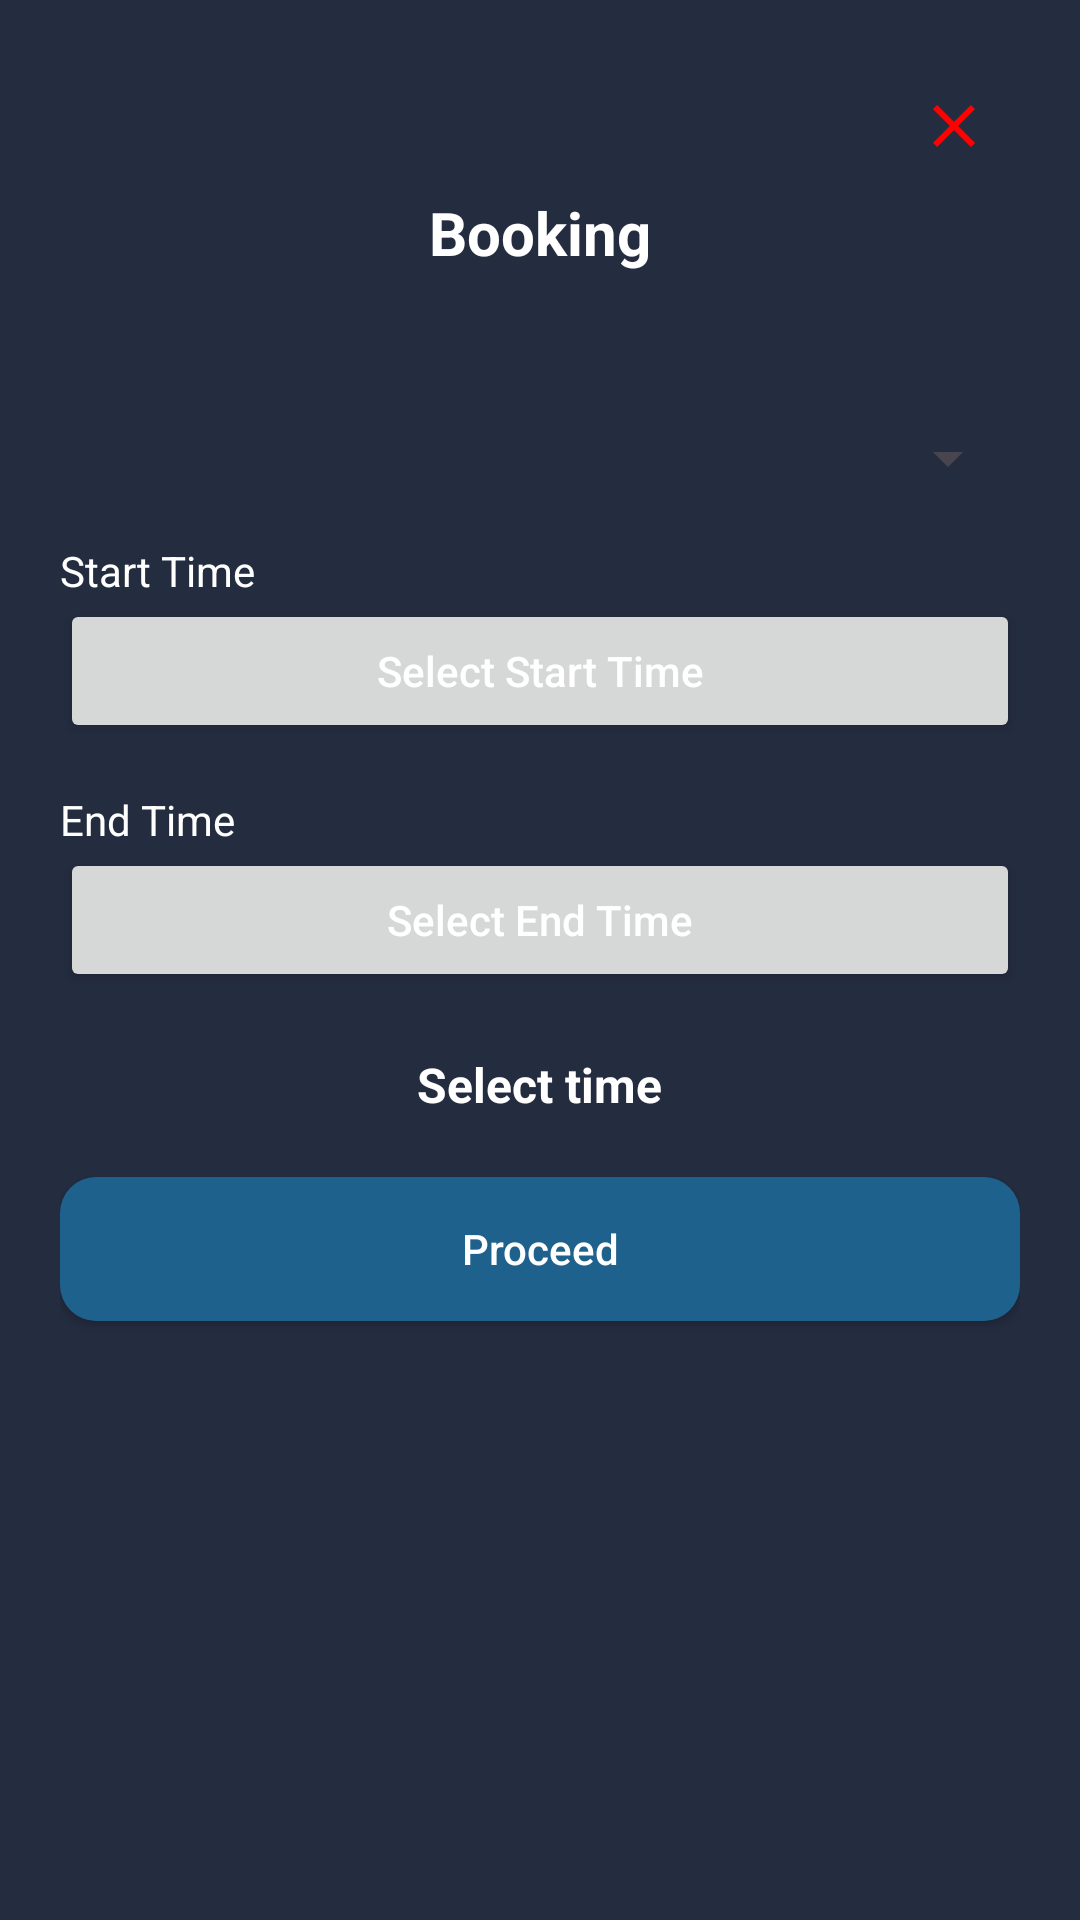

Where icons sit on this 1080px×1920px app screen, as {"x1": x1, "y1": y1, "x2": x2, "y2": y2}:
close: {"x1": 933, "y1": 105, "x2": 975, "y2": 147}
